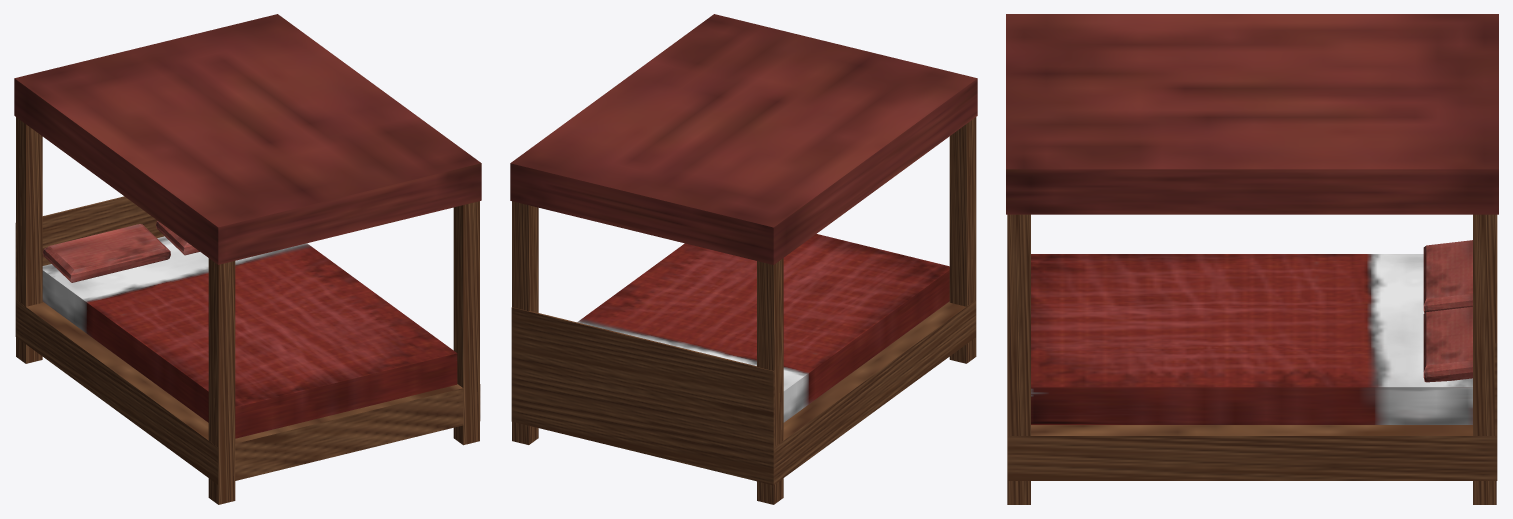
The model's file is MKU_bed_canopy_fin.fbx.
The picture shows the model from 3 angles, left to right: view 1: azimuth 30°, elevation 25°; view 2: azimuth 150°, elevation 25°; view 3: azimuth 270°, elevation 25°; orthographic projection. The views are drawn at different scales.
Visible parts, largest first — view 1: bed; view 2: bed; view 3: bed.
Part boxes in pixels (box(x1,y1,x2,y2)): bed: box(14, 14, 481, 504); bed: box(510, 14, 977, 504); bed: box(1006, 14, 1498, 504).
Bounding box in the file's own units: 483 × 488 × 648.
